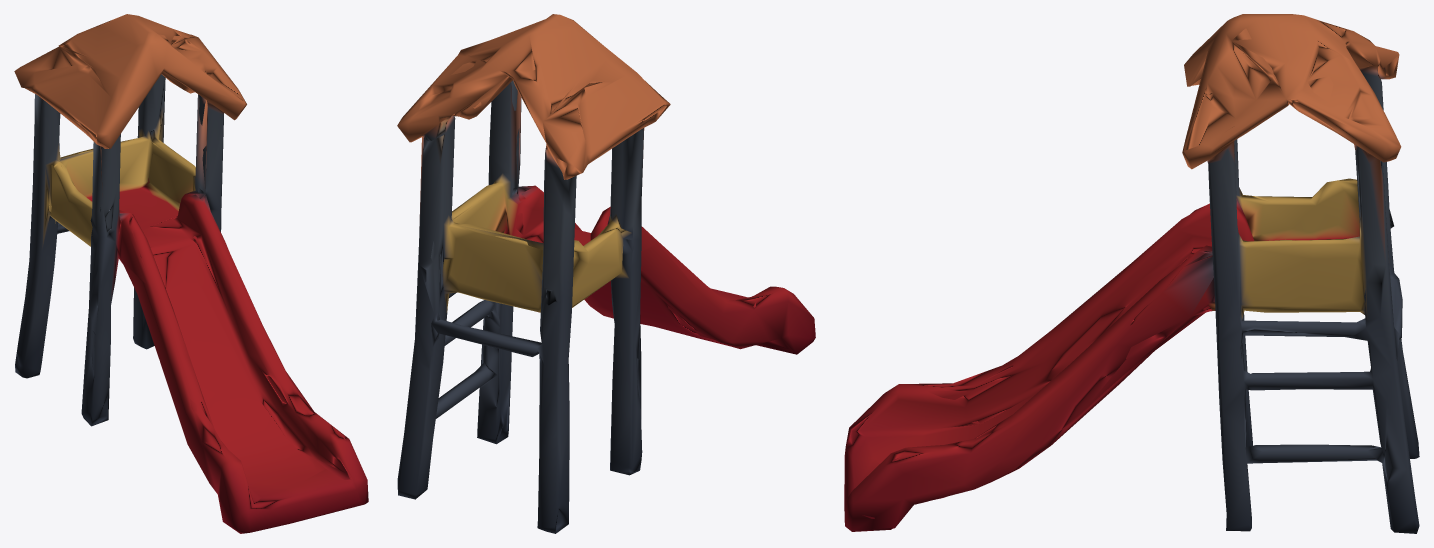
Rendered from gen3d-playground-slide-lod0.glb.
The picture shows the model from 3 angles, left to right: view 1: azimuth 30°, elevation 25°; view 2: azimuth 150°, elevation 25°; view 3: azimuth 270°, elevation 25°; orthographic projection. The views are drawn at different scales.
Visible parts, largest first — view 1: part_0; view 2: part_0; view 3: part_0.
Boxes of the visible parts, x1,y1,x2,y2 form: part_0: (14, 14, 368, 533); part_0: (397, 14, 815, 533); part_0: (844, 14, 1419, 533).
Bounding box in the file's own units: 0.4212 × 0.9973 × 1.09.
